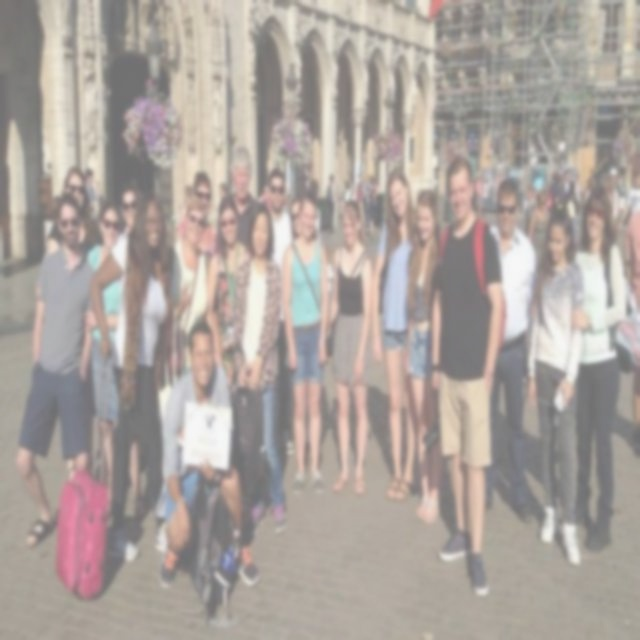pessoa: (85, 189, 193, 564), (426, 149, 508, 602), (33, 200, 147, 524), (530, 183, 629, 555), (326, 382, 554, 526), (16, 190, 98, 550), (158, 322, 261, 590), (524, 204, 584, 573), (230, 198, 288, 543), (483, 175, 538, 529), (370, 164, 418, 503), (401, 184, 448, 523), (324, 195, 376, 495), (282, 190, 330, 497), (282, 194, 324, 448), (608, 164, 640, 470), (162, 194, 213, 378), (206, 192, 252, 392), (268, 166, 294, 456), (45, 164, 104, 258), (178, 169, 218, 255), (530, 157, 598, 206), (230, 145, 260, 250), (339, 166, 377, 242), (80, 48, 102, 158), (186, 20, 202, 158), (528, 188, 550, 278), (116, 172, 143, 241), (522, 184, 541, 246), (212, 66, 226, 150), (85, 166, 101, 221), (324, 172, 337, 239), (290, 42, 302, 106), (246, 30, 258, 90), (479, 175, 492, 218), (472, 171, 483, 218), (330, 52, 338, 102), (259, 172, 272, 201), (362, 61, 370, 108), (180, 177, 192, 204), (215, 176, 229, 198), (389, 65, 396, 104), (412, 73, 418, 110)
